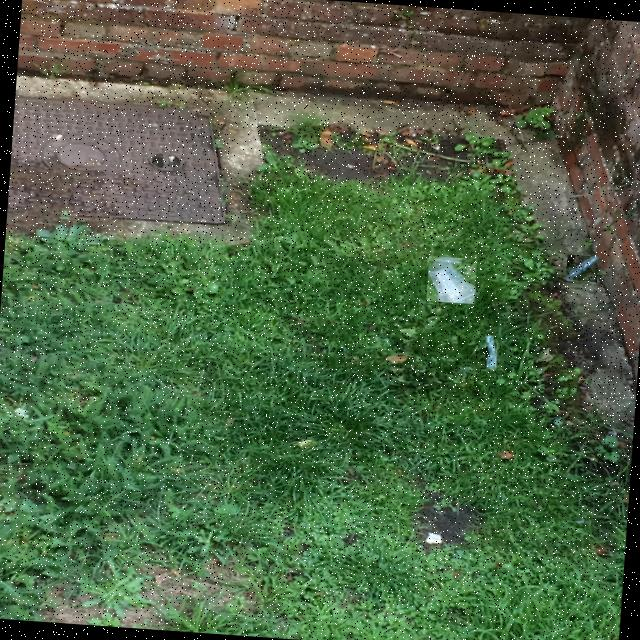Cigarette: (52, 135, 61, 140)
Disposable plastic cup: (428, 261, 475, 302)
Other plastic bottle: (486, 336, 495, 368)
Plastic lid: (428, 257, 461, 274)
Unlabeled litter: (566, 256, 598, 280)
